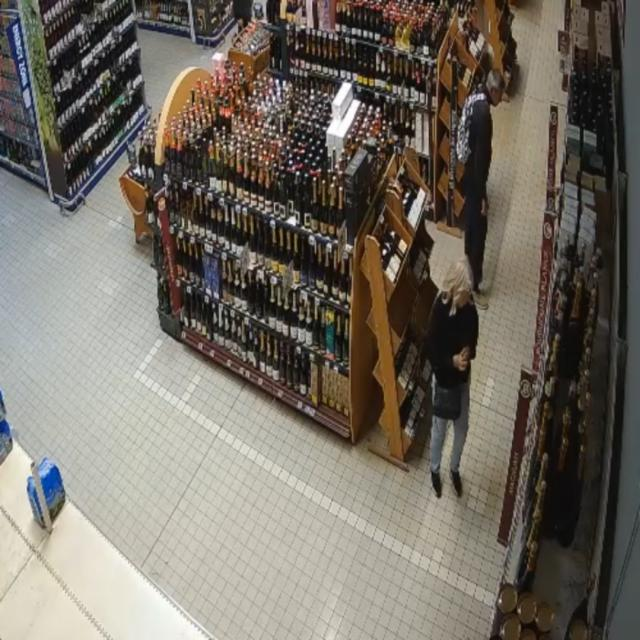bags: (456, 92, 486, 163), (432, 377, 461, 420)
hands: (454, 350, 468, 371), (481, 198, 489, 216)
person: (427, 258, 478, 496), (464, 70, 505, 309)
